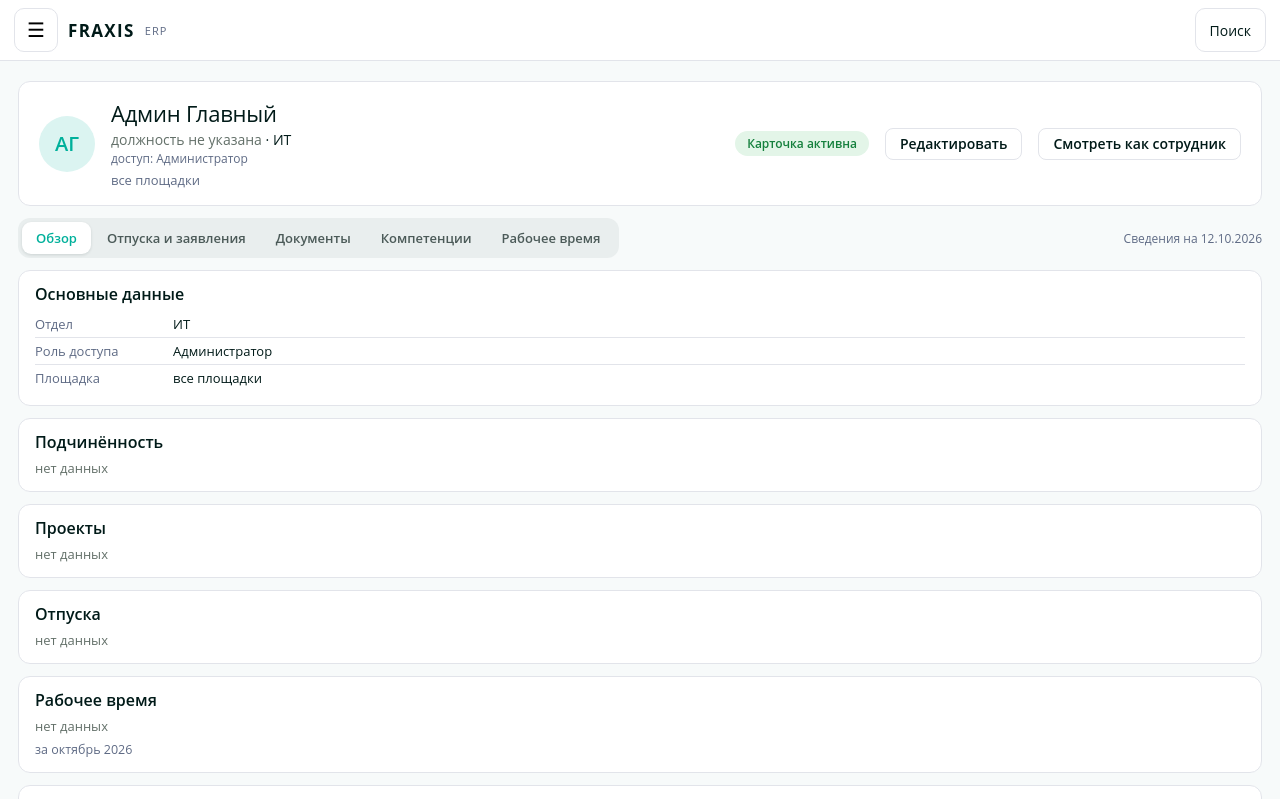
Scenario: starts from the administrator's own card: pick a working employee, then the app is theirs
Click the button "Смотреть как сотрудник". click: (1140, 144)
box: x1=1038 y1=128 x2=1241 y2=160
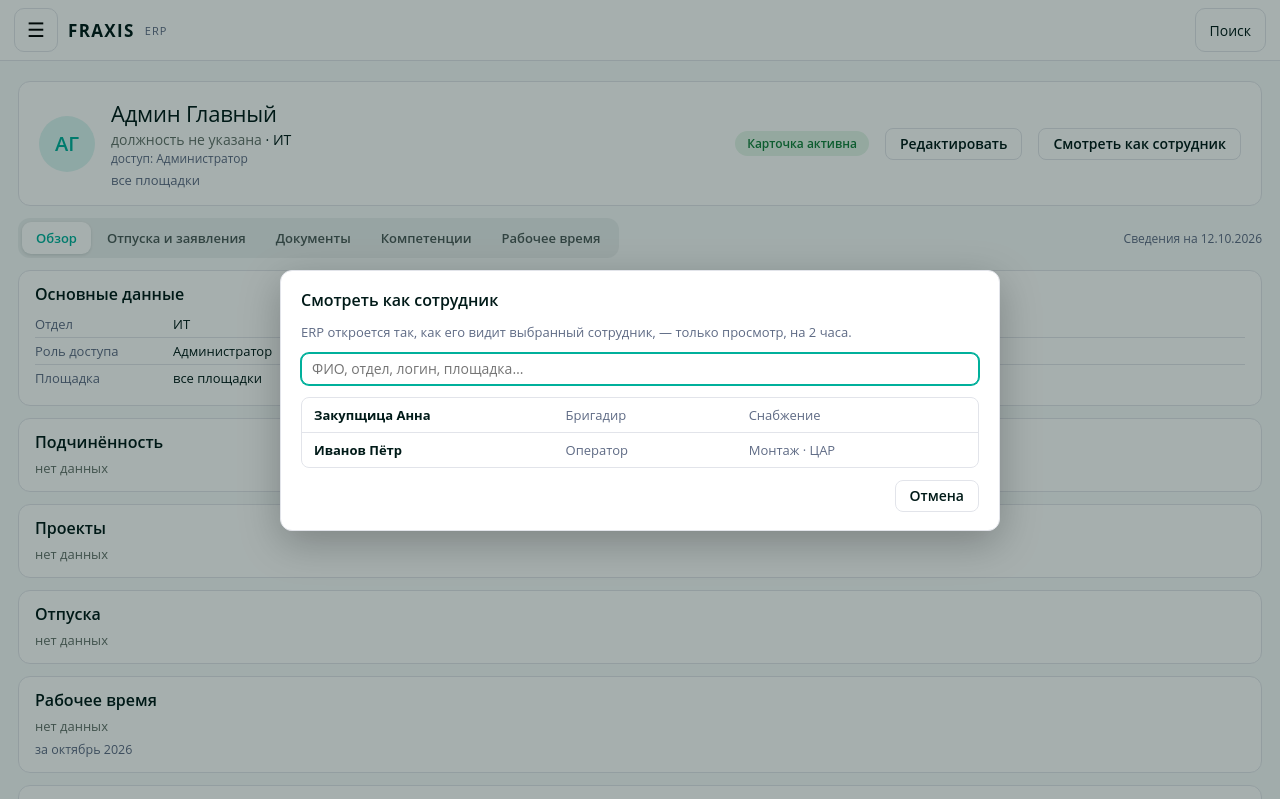
Type "монтаж" into the search field named "Поиск сотрудника". click: (640, 368)
box: x1=301 y1=352 x2=979 y2=384
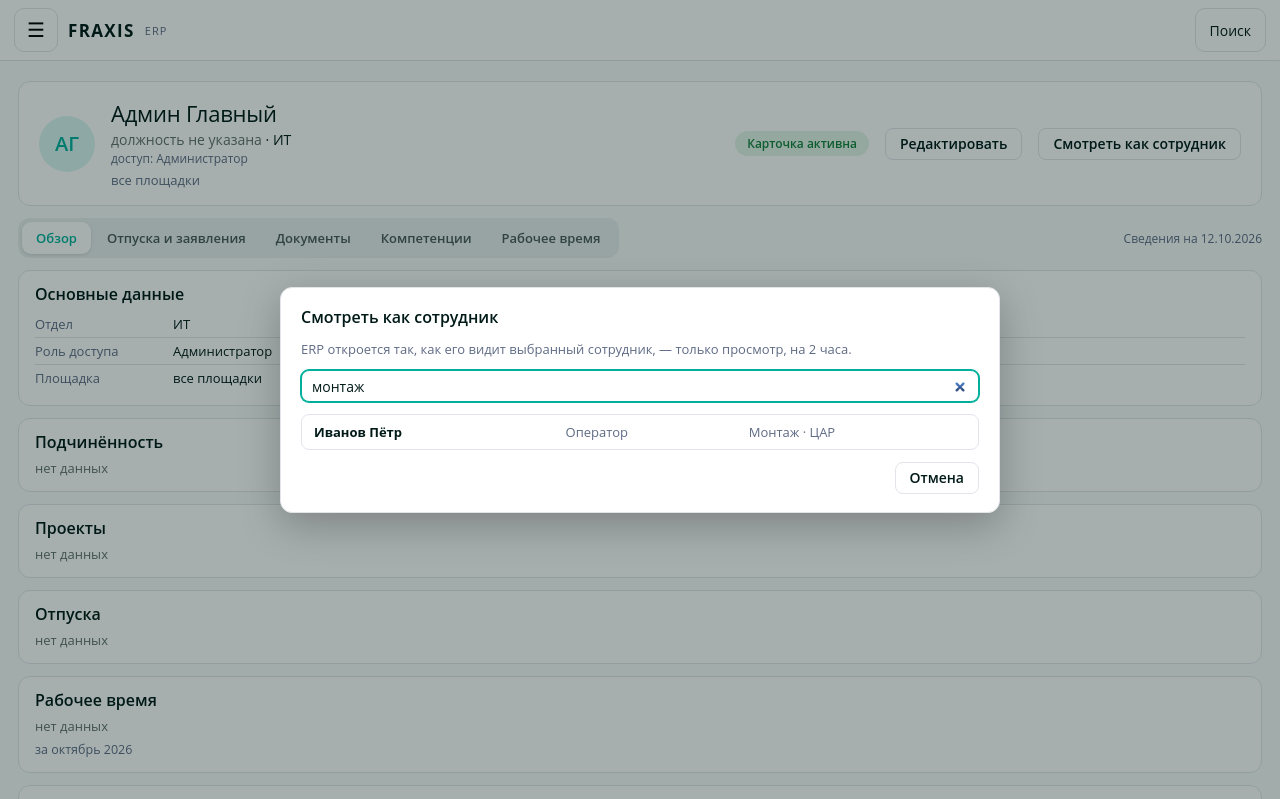
Click the button "Иванов Пётр Оператор Монтаж · ЦАР". click: (358, 432)
box: x1=302 y1=415 x2=978 y2=449
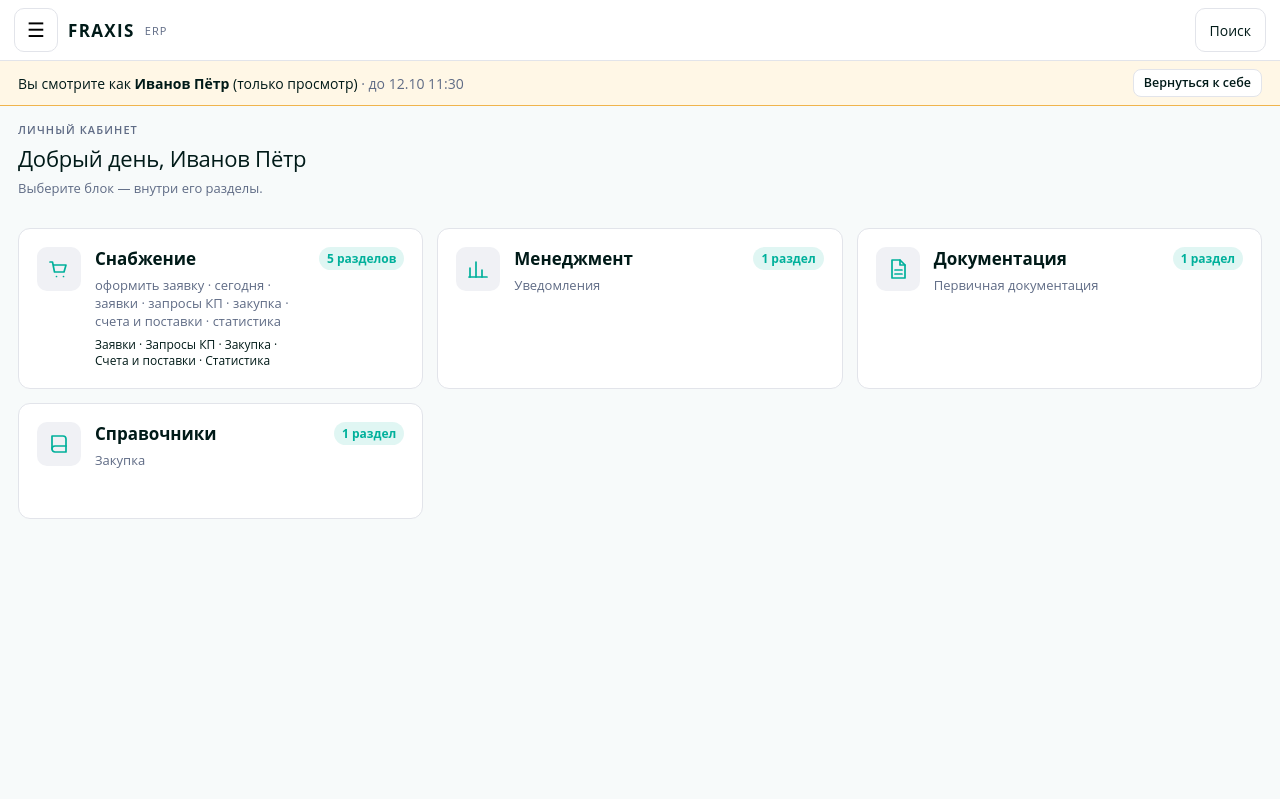
Now the text "Вы смотрите как" is shown, box x1=18 y1=74 x2=135 y2=92
Now the heading "Добрый день, Иванов Пётр" is shown, box x1=18 y1=143 x2=306 y2=173
